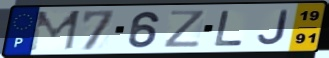6: (127, 10, 161, 50)
7: (80, 9, 117, 52)
J: (256, 9, 291, 47)
L: (212, 9, 246, 48)
M: (26, 8, 83, 53)
Z: (161, 9, 207, 49)
